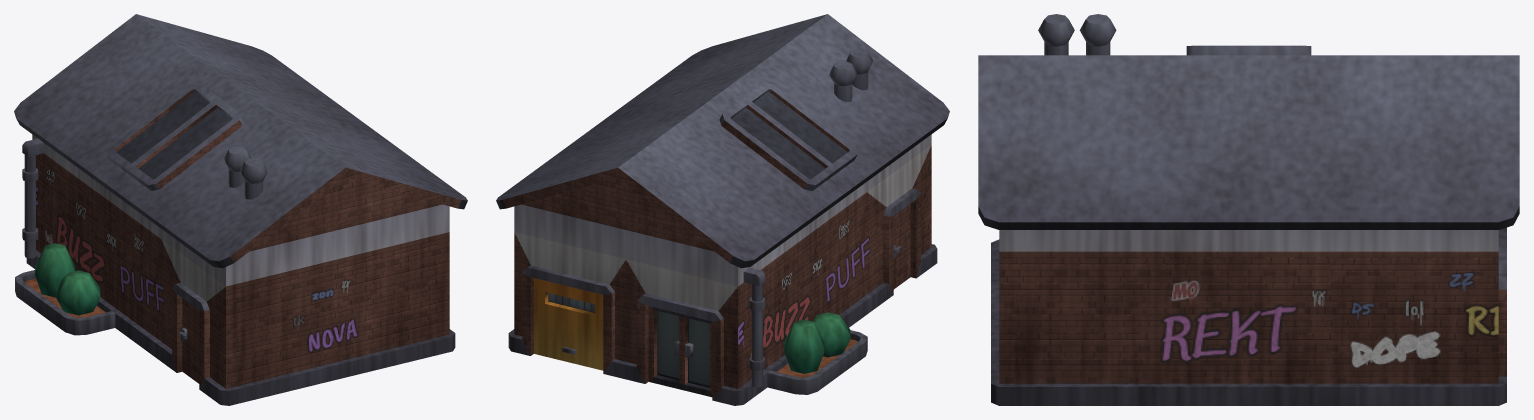
The model's file is building-i-brown-scuffed.glb.
3 views of the same model, side by side, from view 1: azimuth 30°, elevation 25°; view 2: azimuth 150°, elevation 25°; view 3: azimuth 270°, elevation 25° (orthographic). The views are drawn at different scales.
Parts seen in each view (by area): view 1: building-i; view 2: building-i; view 3: building-i.
Boxes of the visible parts, <box> form: building-i: <box>14,14,467,405</box>; building-i: <box>496,14,949,405</box>; building-i: <box>978,14,1519,405</box>.
Bounding box in the file's own units: 1.03 × 0.7335 × 1.3.
1 material, 1 textured.
